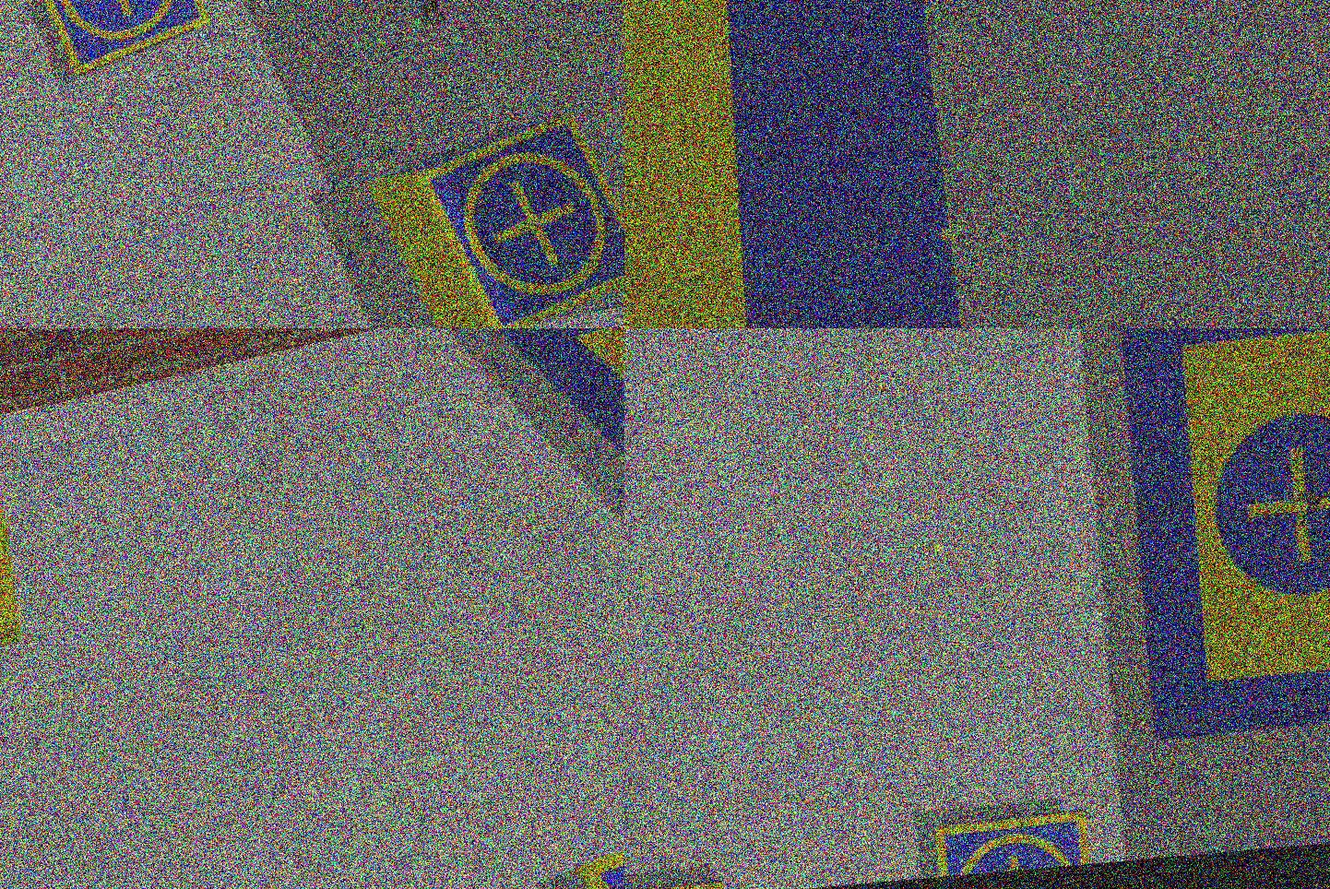large_base: (624, 1, 968, 328), (1113, 328, 1330, 742), (493, 328, 624, 692)
small_base: (406, 108, 624, 328), (19, 1, 215, 82), (935, 810, 1093, 882)
